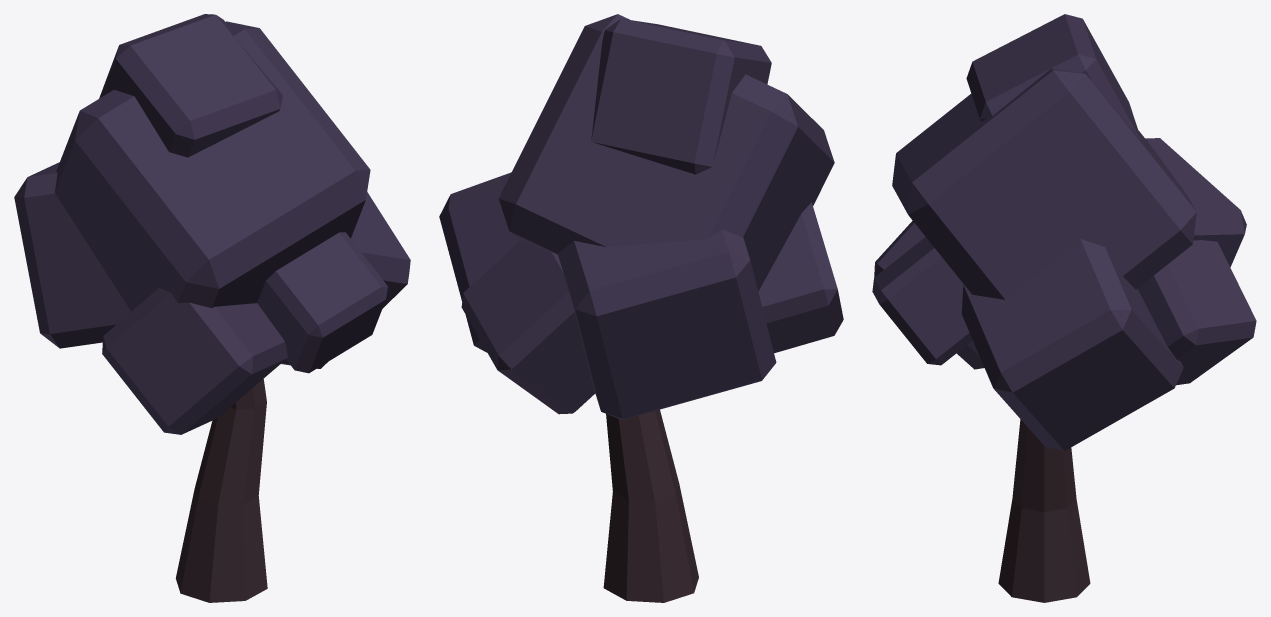
File: Arbol6.fbx
3 renders of one model, left to right at view 1: azimuth 30°, elevation 25°; view 2: azimuth 150°, elevation 25°; view 3: azimuth 270°, elevation 25°, orthographic. The views are drawn at different scales.
Visible parts, largest first — view 1: pCube8; view 2: pCube8; view 3: pCube8.
Boxes of the visible parts, <box> form: pCube8: <box>14,14,410,602</box>; pCube8: <box>439,14,843,602</box>; pCube8: <box>872,14,1256,602</box>.
Size of the model in its own units: 2.79 by 4.63 by 3.01.
